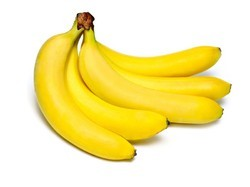looks_good: (19, 3, 233, 171)
